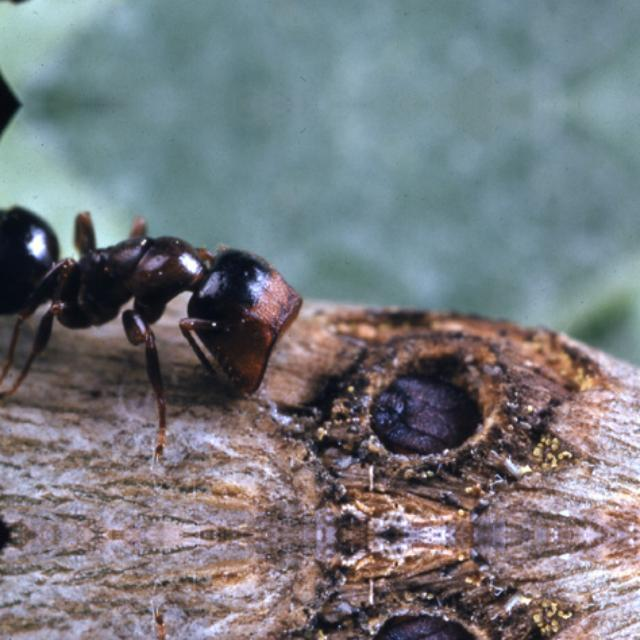Colobopsis: (0, 194, 346, 400), (356, 349, 489, 468), (356, 600, 488, 640)
